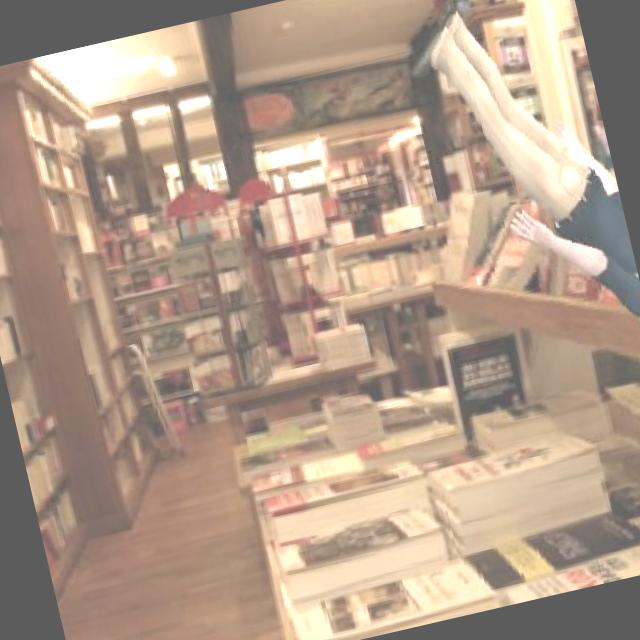Person: (391, 0, 640, 379)
